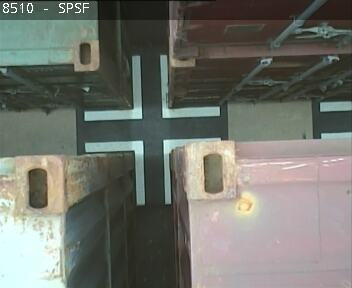groundmarker_1: (84, 136, 220, 205), (83, 53, 219, 122)
